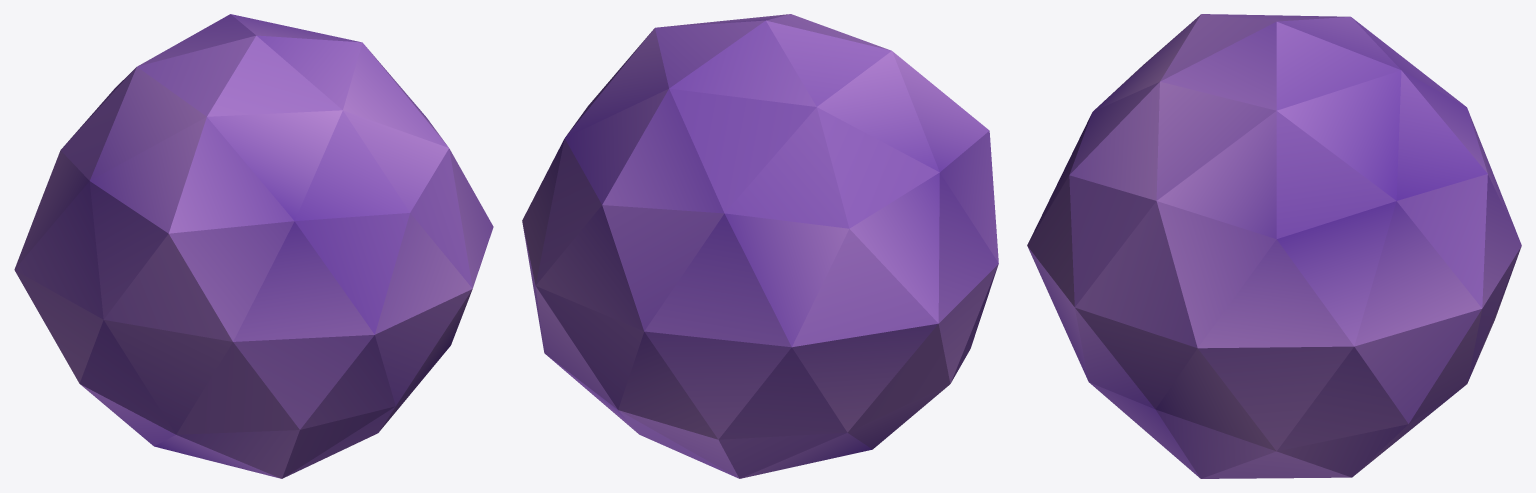
Rendered from planet_spelling.glb.
3 renders of one model, left to right at view 1: azimuth 30°, elevation 25°; view 2: azimuth 150°, elevation 25°; view 3: azimuth 270°, elevation 25°, orthographic. The views are drawn at different scales.
Visible parts, largest first — view 1: Surface; view 2: Surface; view 3: Surface.
Part boxes in pixels (bbox=[...]): Surface: bbox=[14, 14, 493, 478]; Surface: bbox=[522, 14, 998, 478]; Surface: bbox=[1027, 14, 1521, 478].
Bounding box in the file's own units: 2.01 × 1.97 × 2.03.
